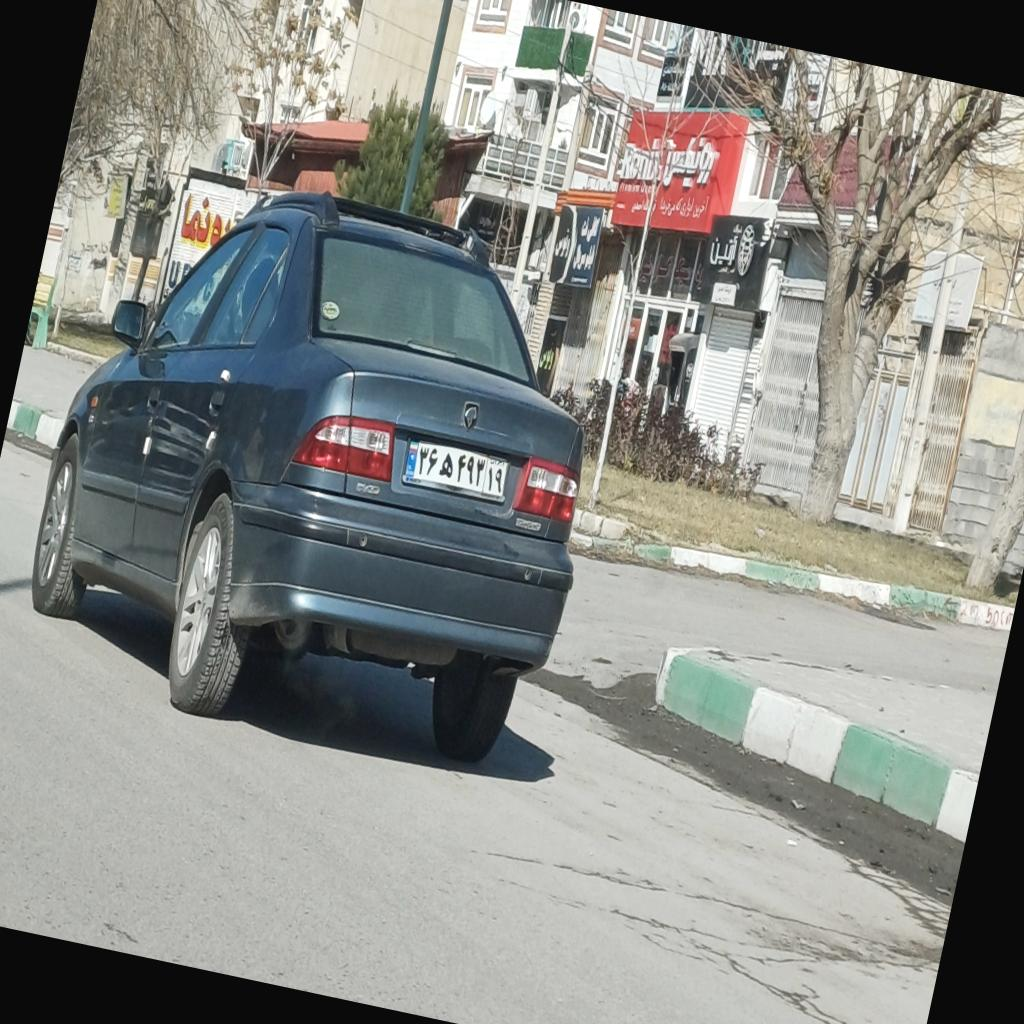Plates: (403, 437, 510, 497)
